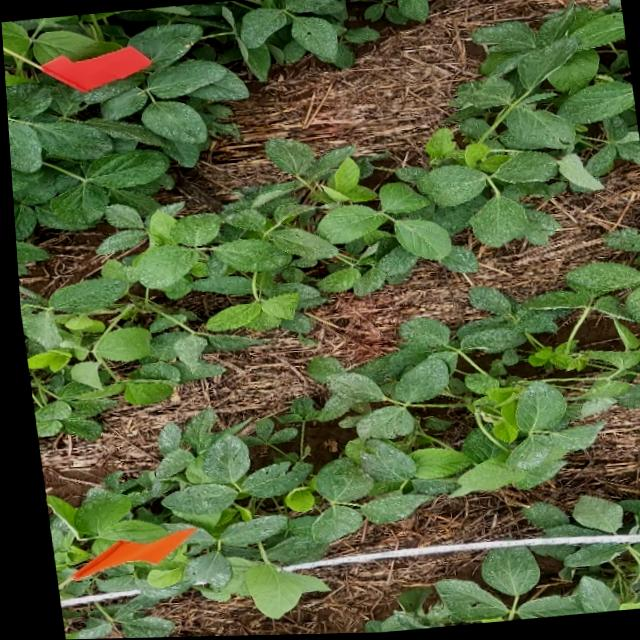soy_plant: (16, 9, 640, 437), (128, 233, 640, 618), (38, 410, 420, 638), (1, 0, 426, 166), (4, 74, 165, 274), (357, 547, 640, 634), (518, 499, 640, 538)
